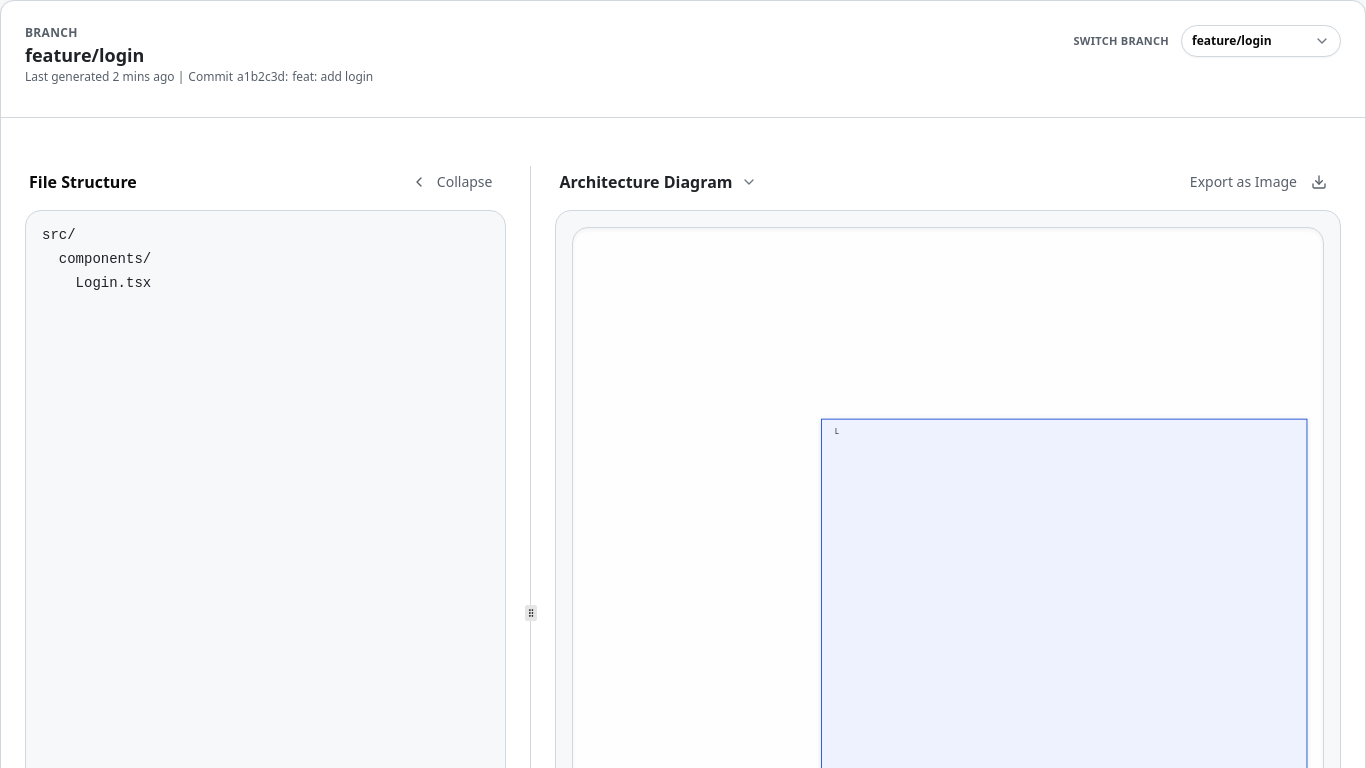
Test case: DiagramPanel › File Tree Panel › restores file tree when 'Show file tree' is clicked
Click the button "Collapse": {"x": 452, "y": 182} [401,166,502,198]
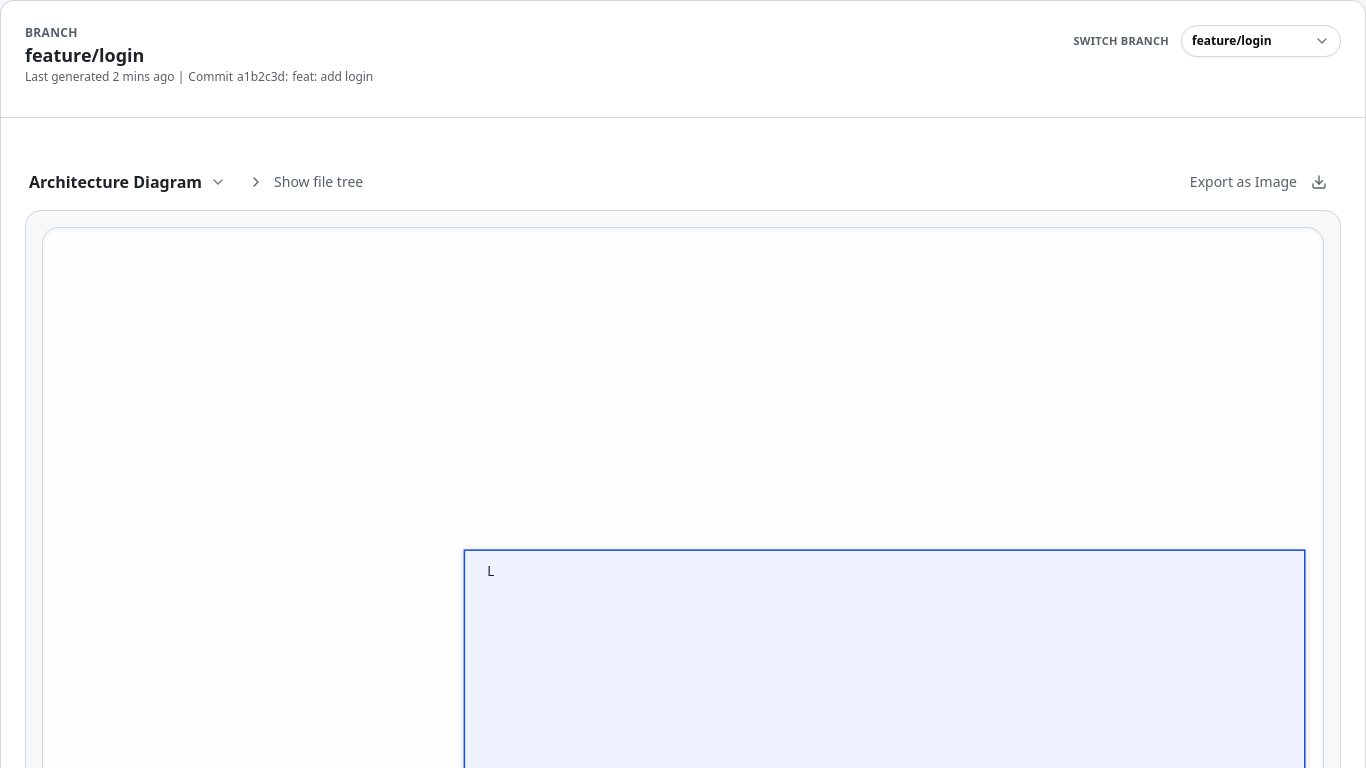
Click the button "Show file tree": {"x": 306, "y": 182} [238,166,373,198]
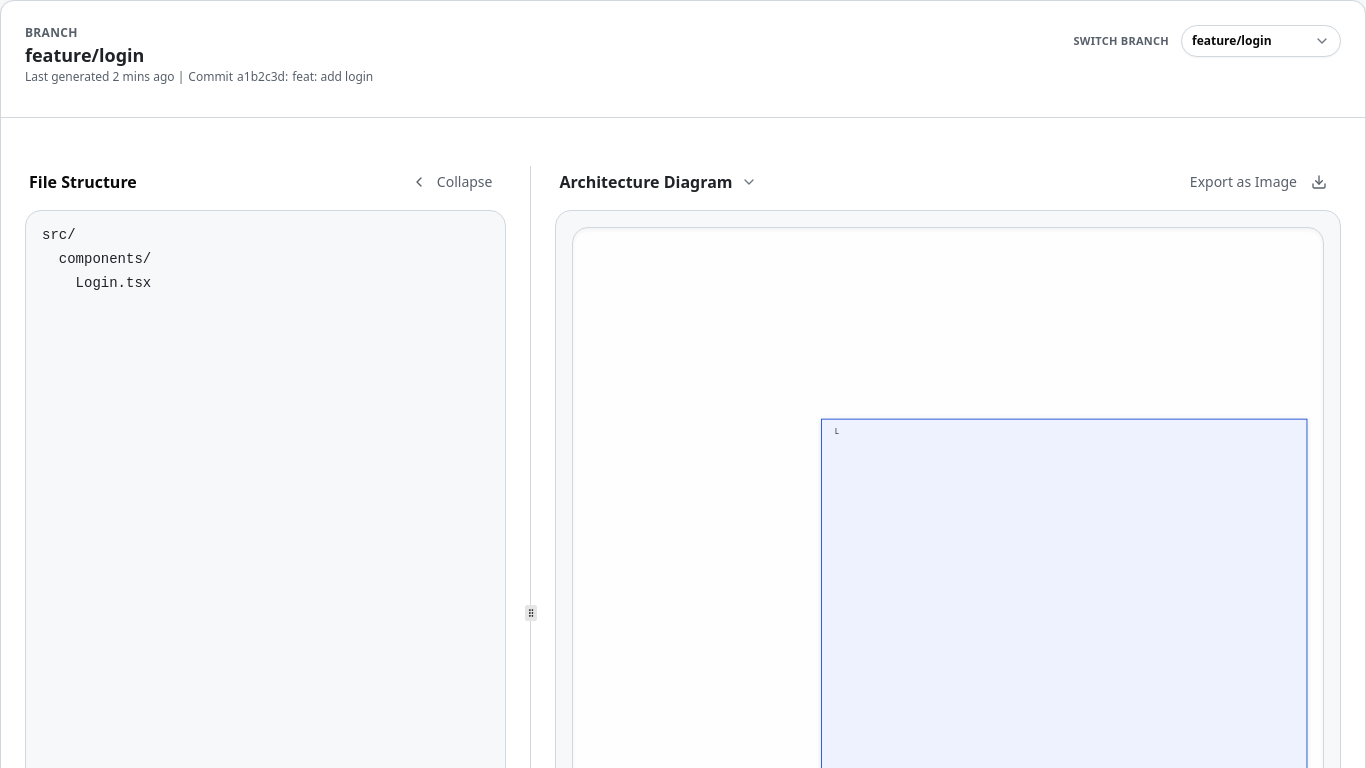
Expected: the text "File Structure" is shown, [29,170,137,194]
